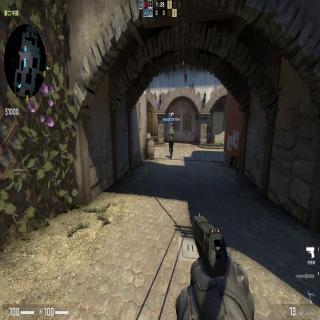CT-Body: (168, 127, 175, 160)
